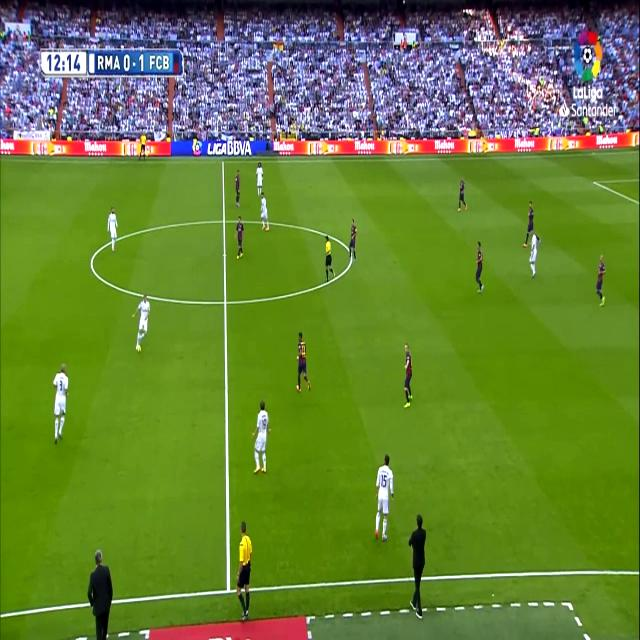halfcircle_bottom: (220, 288, 231, 314)
halfcircle_top: (219, 211, 229, 230)
midline_bottom_intersection: (222, 574, 236, 600)
midline_top_intersection: (219, 154, 226, 168)
